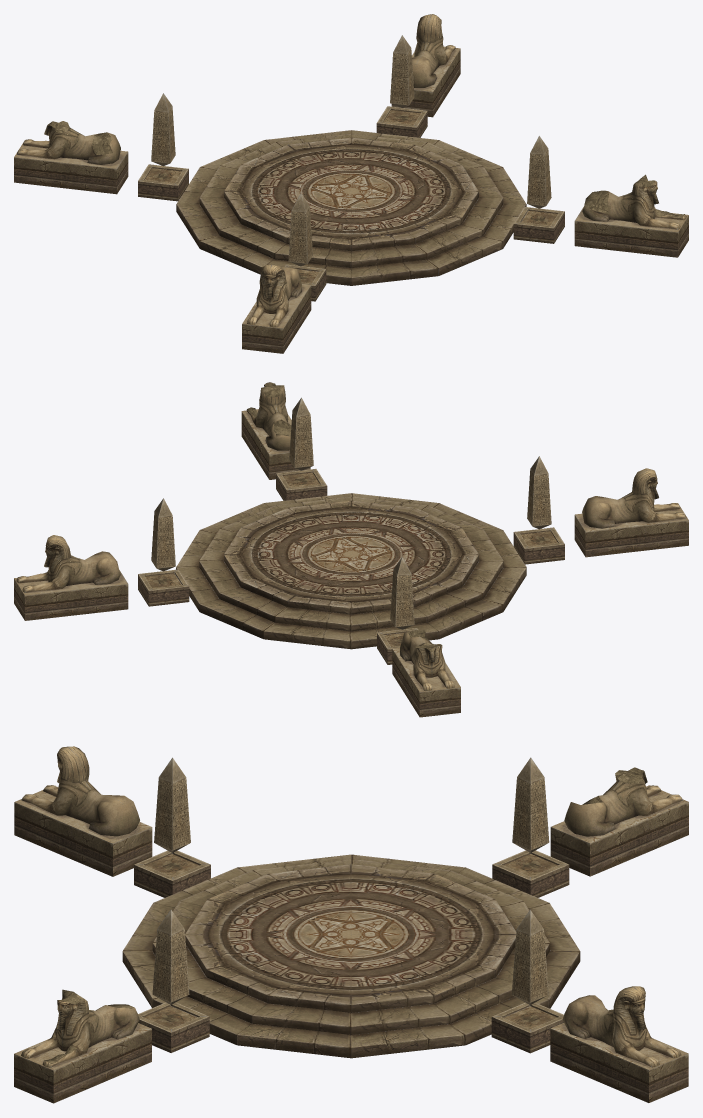
Rendered from SC_tamalagebi_28.FBX.
The picture shows the model from 3 angles, top to bottom: view 1: azimuth 30°, elevation 25°; view 2: azimuth 150°, elevation 25°; view 3: azimuth 270°, elevation 25°; orthographic projection. The views are drawn at different scales.
Parts seen in each view (by area): view 1: SC_tamalagebi_28; view 2: SC_tamalagebi_28; view 3: SC_tamalagebi_28.
Boxes of the visible parts, x1,y1,x2,y2 form: SC_tamalagebi_28: (14, 14, 688, 353); SC_tamalagebi_28: (14, 382, 688, 717); SC_tamalagebi_28: (14, 746, 688, 1103).
Bounding box in the file's own units: 1529 × 320 × 1529.
